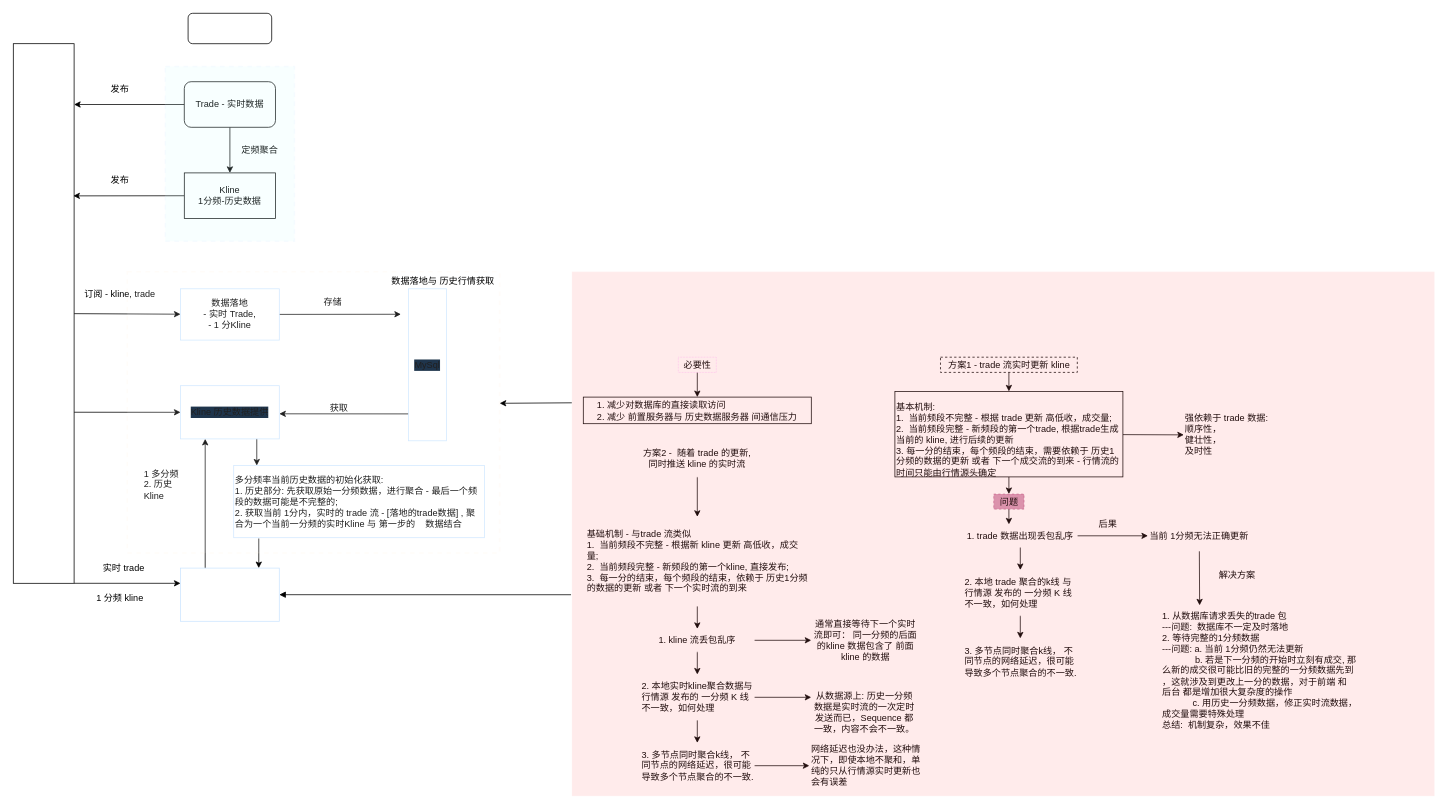
This 1449x810 diagram has some shape labels left out. The shapes that lost their labels are listed below. From the top down, each one's box as (x1, y1, x2, y2) in pixels, then its label:
(187, 13, 272, 44): Kline 数据处理
(164, 65, 295, 242): 原始聚合
(13, 43, 74, 583): KAFKA
(571, 271, 1435, 796): 多频率数据的缓存与更新
(180, 567, 279, 621): 行情前置服务器
